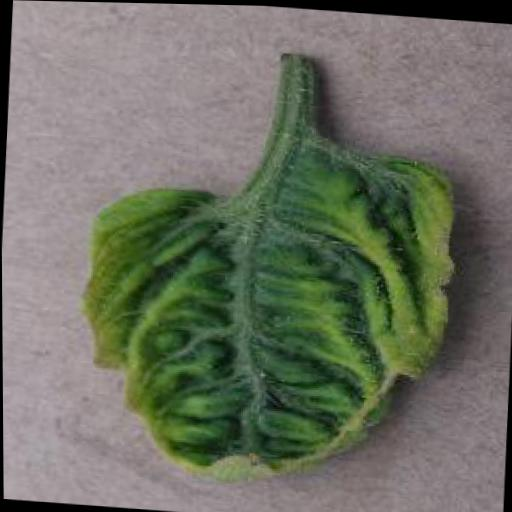Yellow Leaf Curl Virus: (70, 115, 464, 495)
